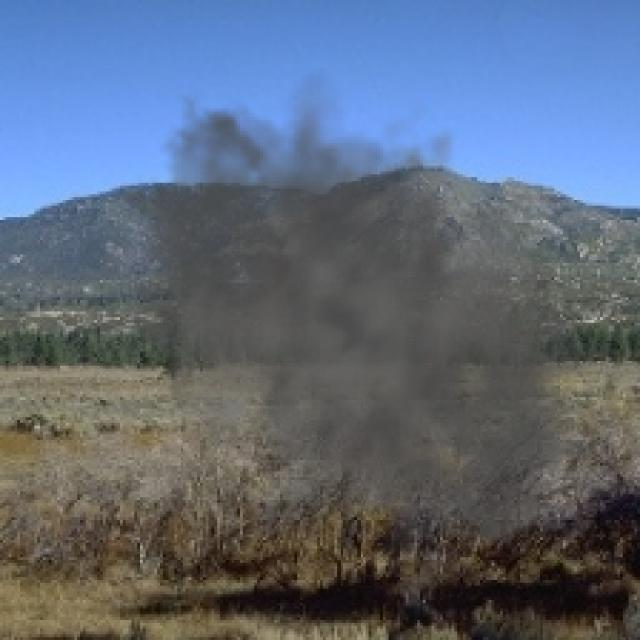Smoke: (89, 69, 626, 586)
